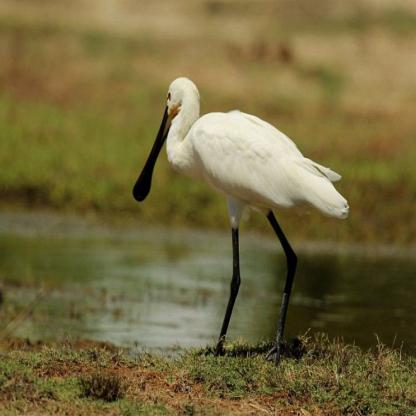Burung: (129, 76, 350, 358)
